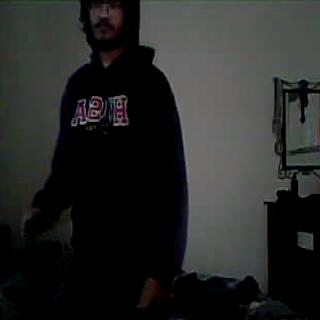HOSA hoodie: (44, 57, 188, 255)
Navy Sweatpants: (67, 256, 164, 320)
